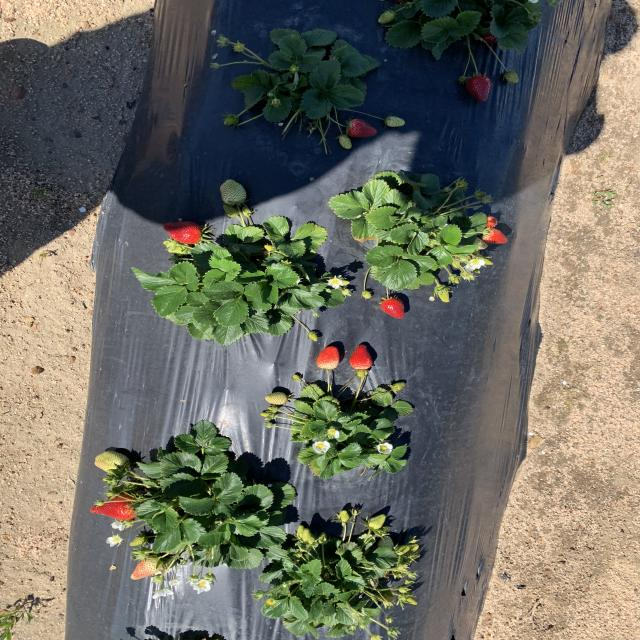unripe: (90, 492, 137, 524), (162, 220, 204, 244), (466, 76, 492, 102), (344, 120, 380, 138), (350, 343, 372, 372), (381, 296, 407, 320), (317, 346, 341, 368), (480, 229, 509, 244), (483, 31, 501, 44)
